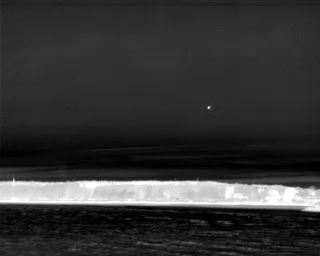HELICOPTER: (205, 103, 213, 113)
